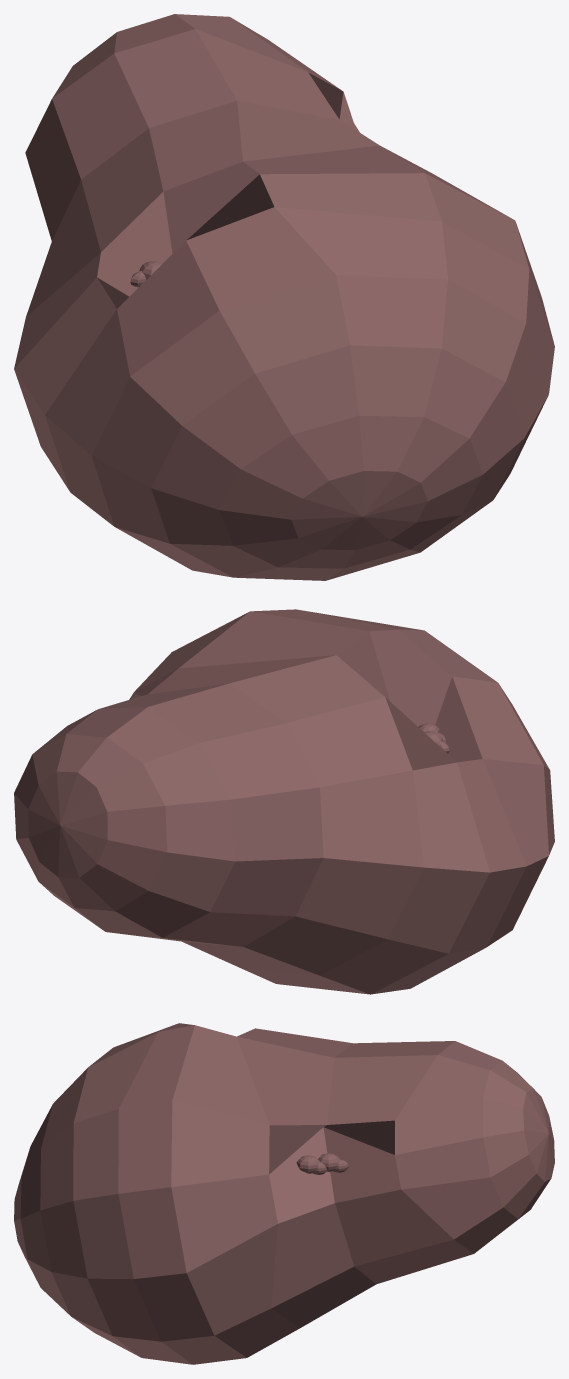
The model's file is potato_mesh.fbx.
3 renders of one model, top to bottom at view 1: azimuth 30°, elevation 25°; view 2: azimuth 150°, elevation 25°; view 3: azimuth 270°, elevation 25°, orthographic. The views are drawn at different scales.
Parts seen in each view (by area): view 1: pSphere14; view 2: pSphere14; view 3: pSphere14.
Boxes of the visible parts, x1,y1,x2,y2 form: pSphere14: [14, 14, 554, 580]; pSphere14: [14, 609, 554, 994]; pSphere14: [14, 1023, 554, 1364].
Bounding box in the file's own units: 2.74 × 2.21 × 3.52.
